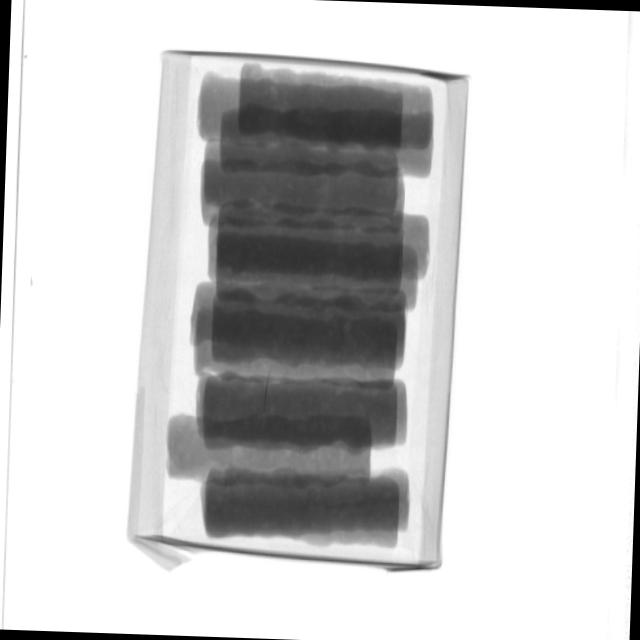ym: (263, 364, 274, 415)
